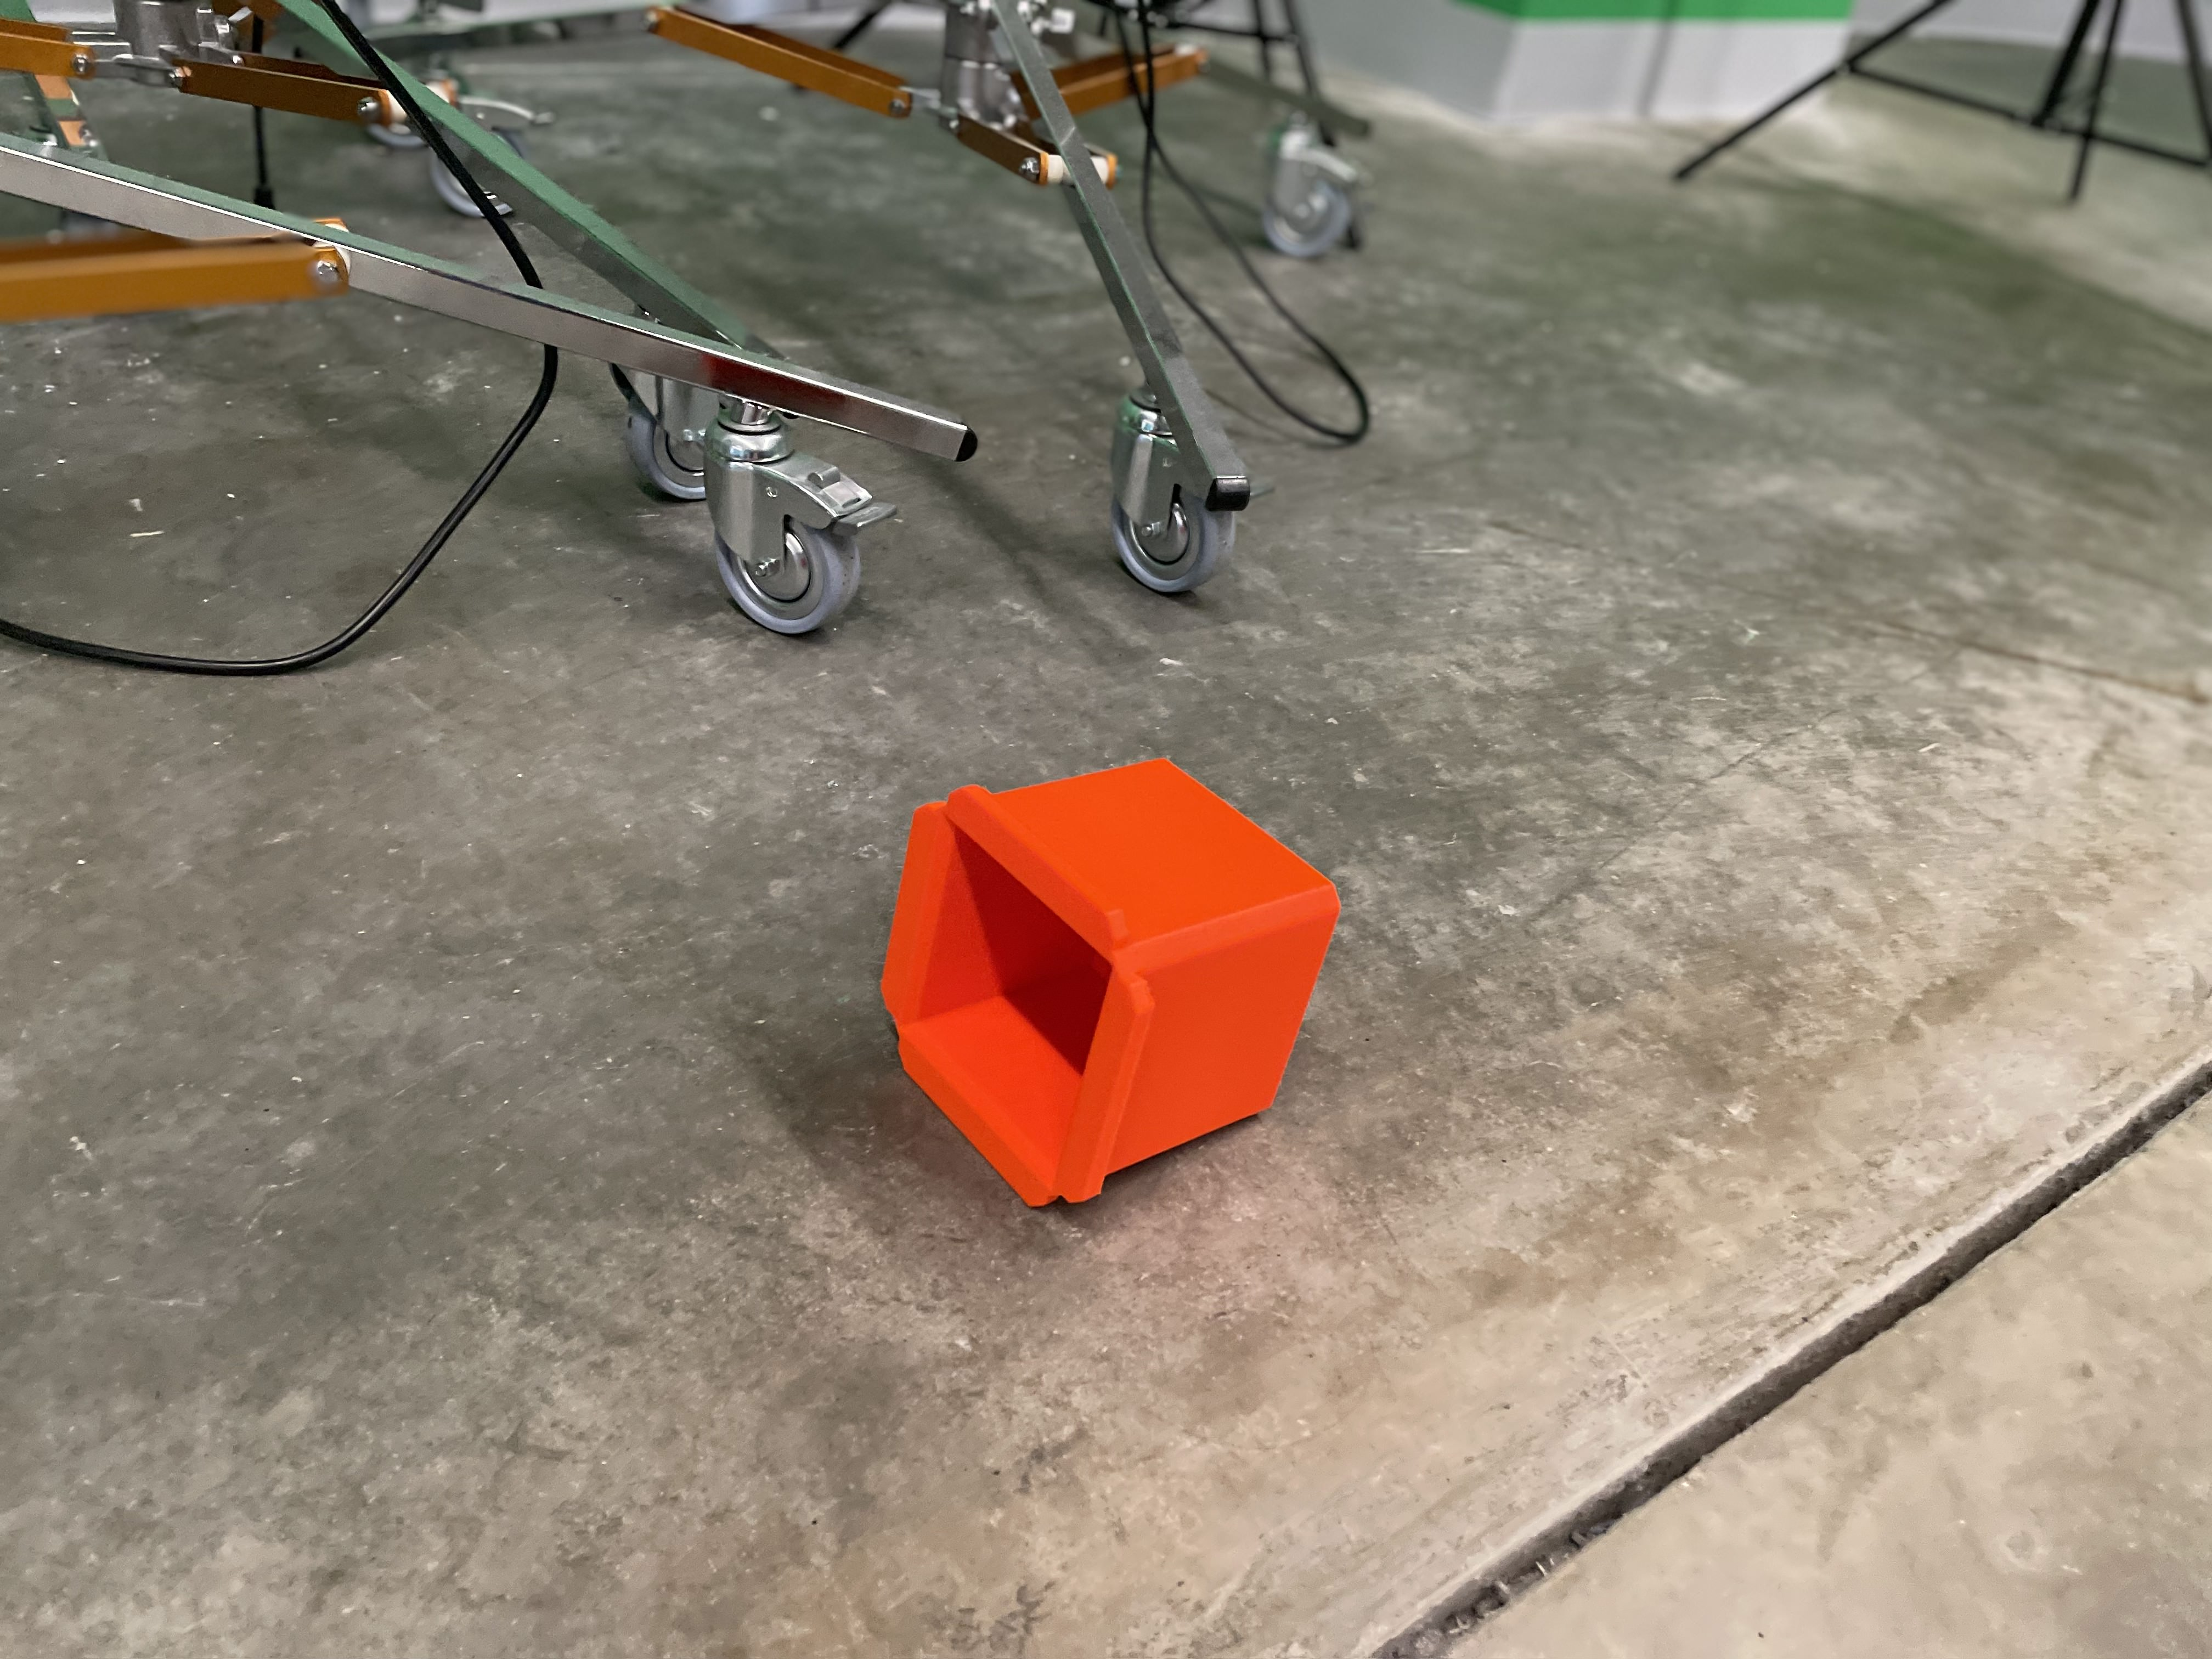payload1: (869, 741, 1357, 1230)
